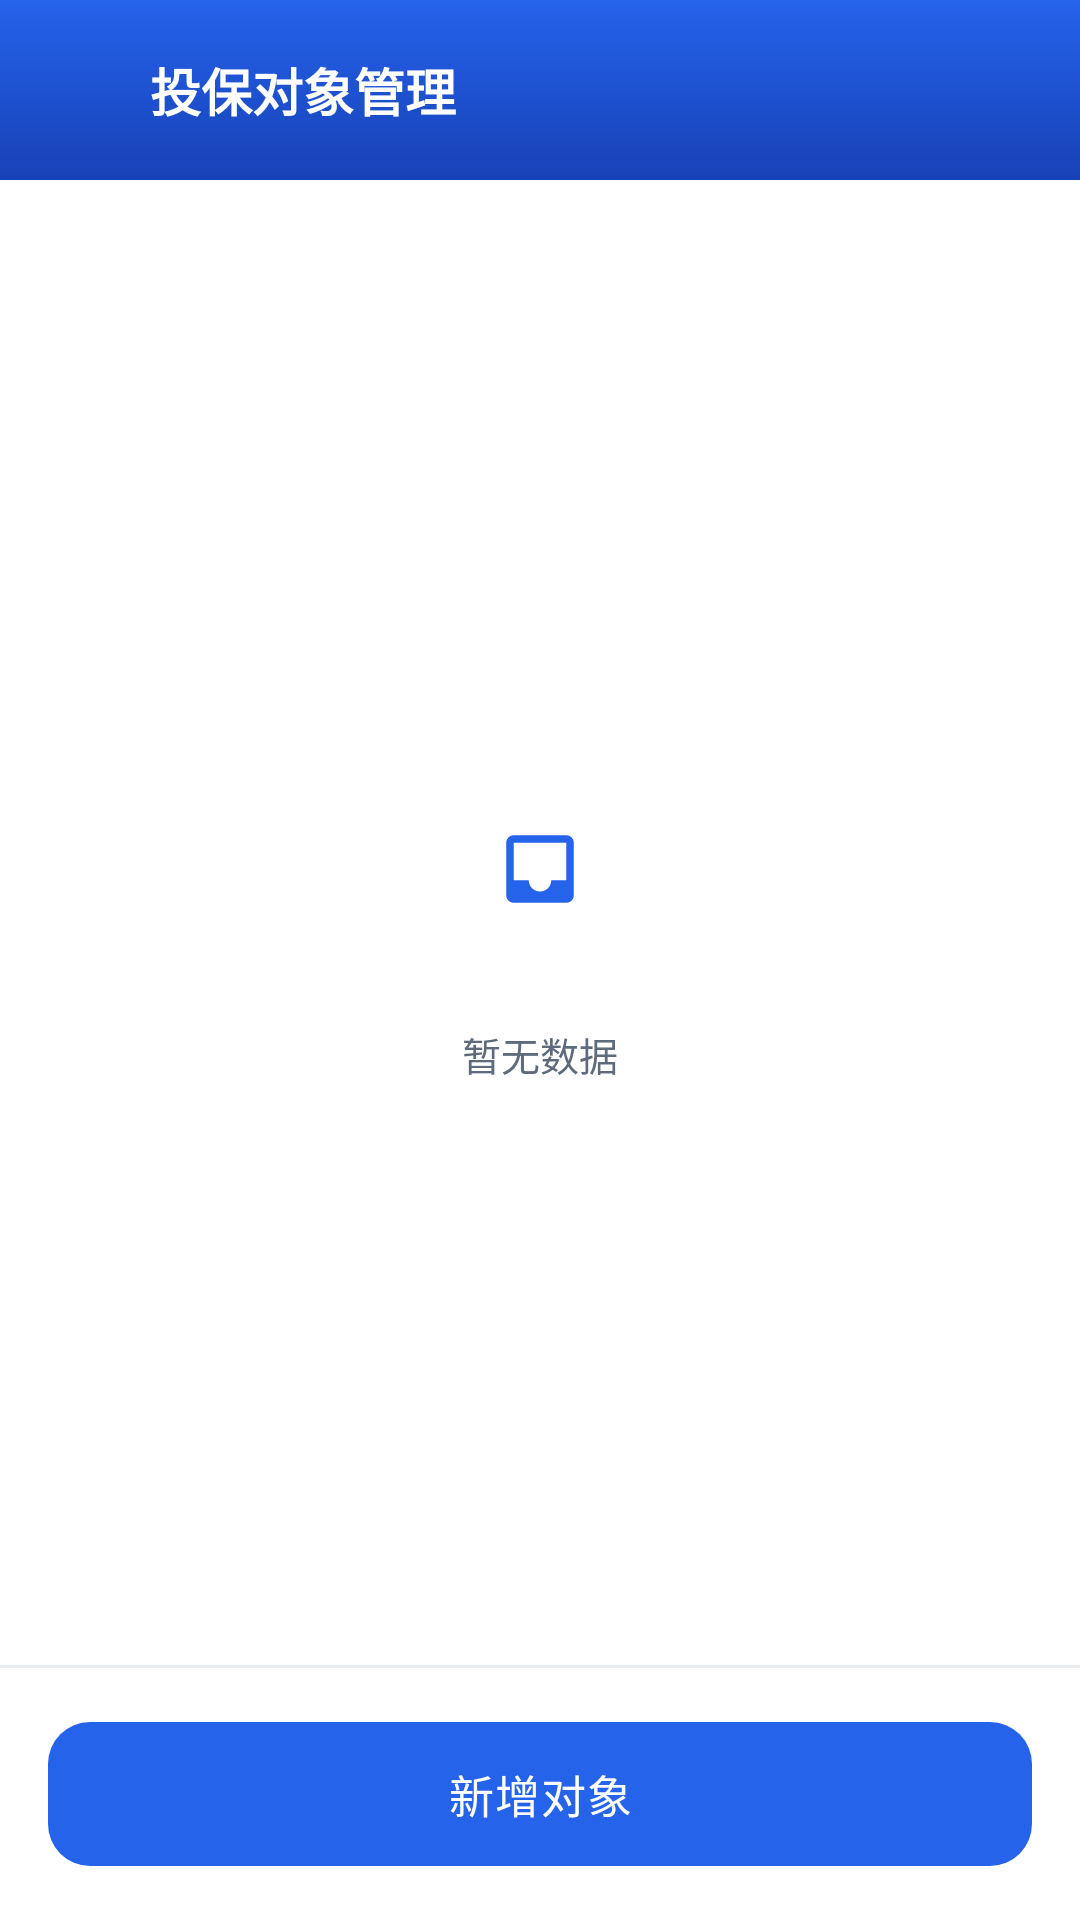

Point at icon controls on the screen. Image size 1080px x 1920px, points as [x,y].
inbox: [540,869]
